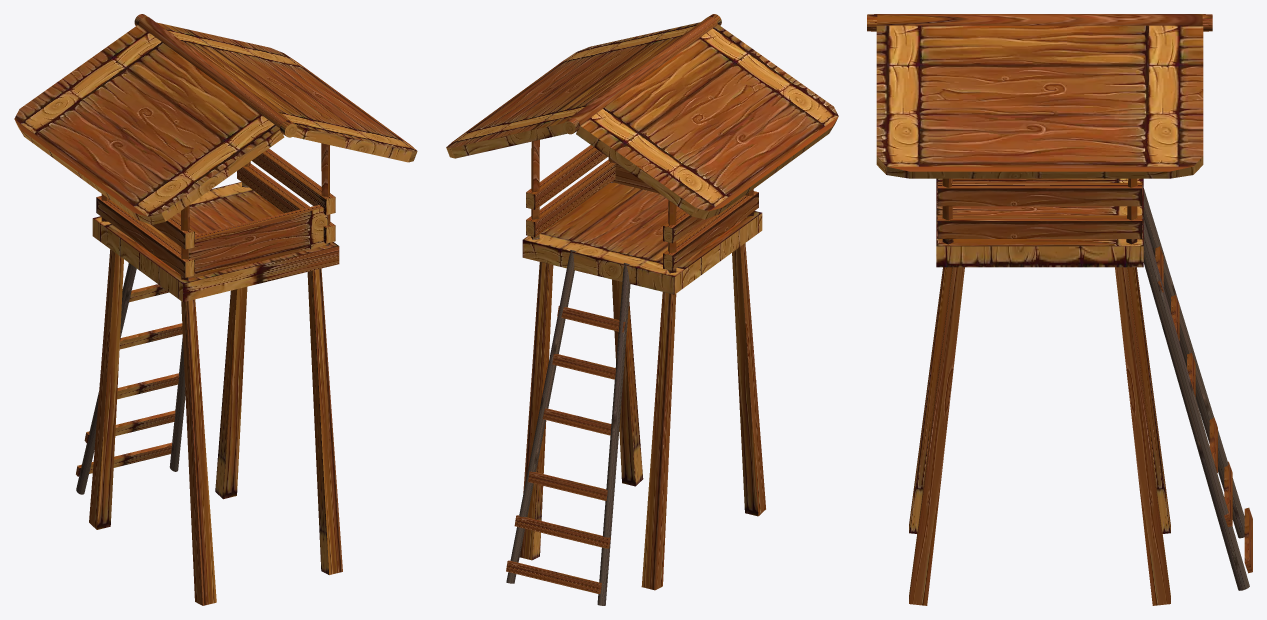
The model's file is wood_tower.fbx.
The picture shows the model from 3 angles, left to right: view 1: azimuth 30°, elevation 25°; view 2: azimuth 150°, elevation 25°; view 3: azimuth 270°, elevation 25°; orthographic projection. The views are drawn at different scales.
Parts seen in each view (by area): view 1: 立方体.135; view 2: 立方体.135; view 3: 立方体.135.
Part boxes in pixels (x1,y1,x2,y2): 立方体.135: (14,14,417,605); 立方体.135: (446,14,838,605); 立方体.135: (867,14,1252,605).
Bounding box in the file's own units: 479 × 793 × 502.
